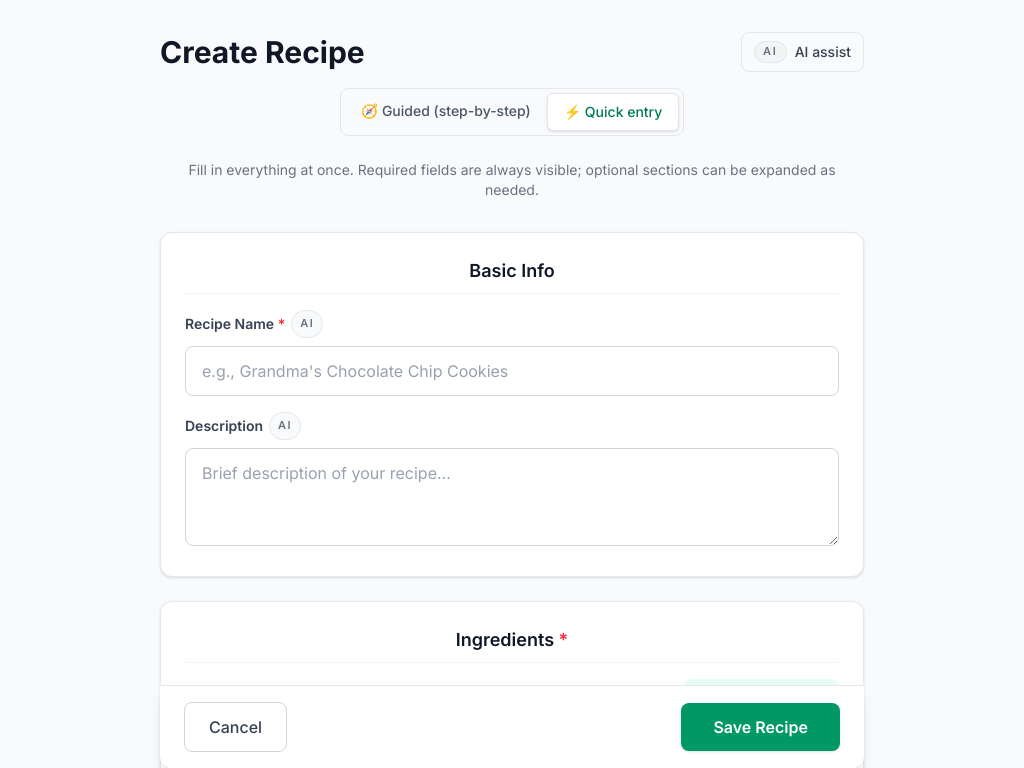
Test: SimpleCreateRecipe › shows title required error when saving with empty title
The image size is (1024, 768).
Click the button "Save Recipe". click: (761, 727)
box: [681,703,840,751]
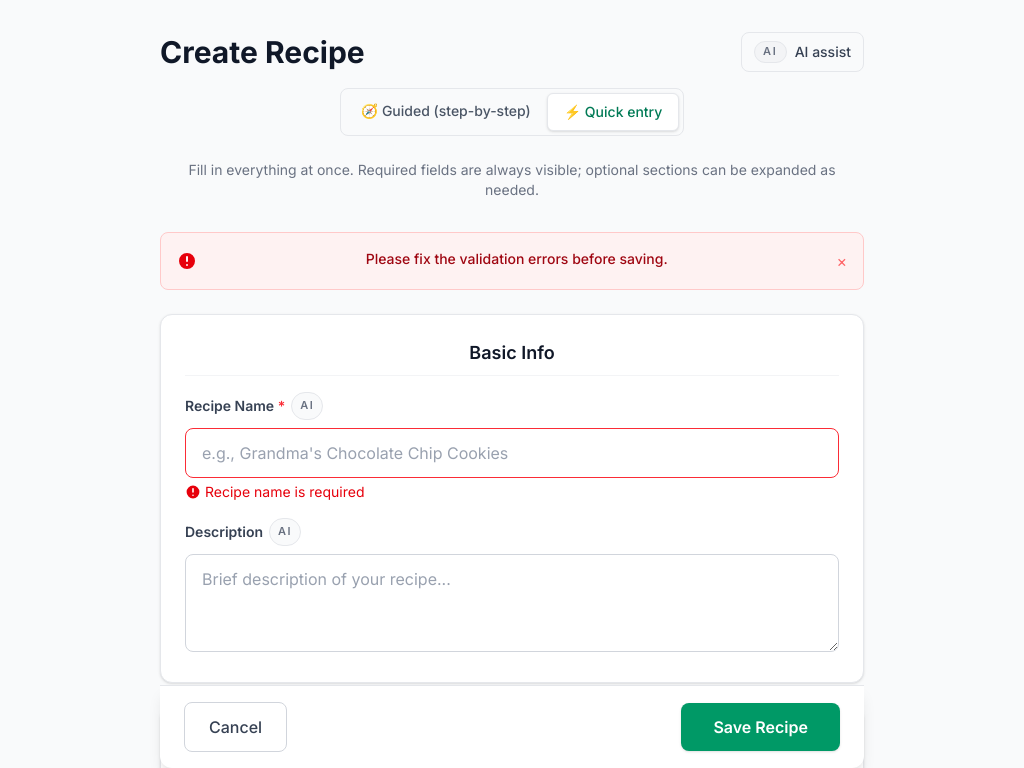
expect the text "Recipe name is required" is shown: met, box [185,483,364,500]
